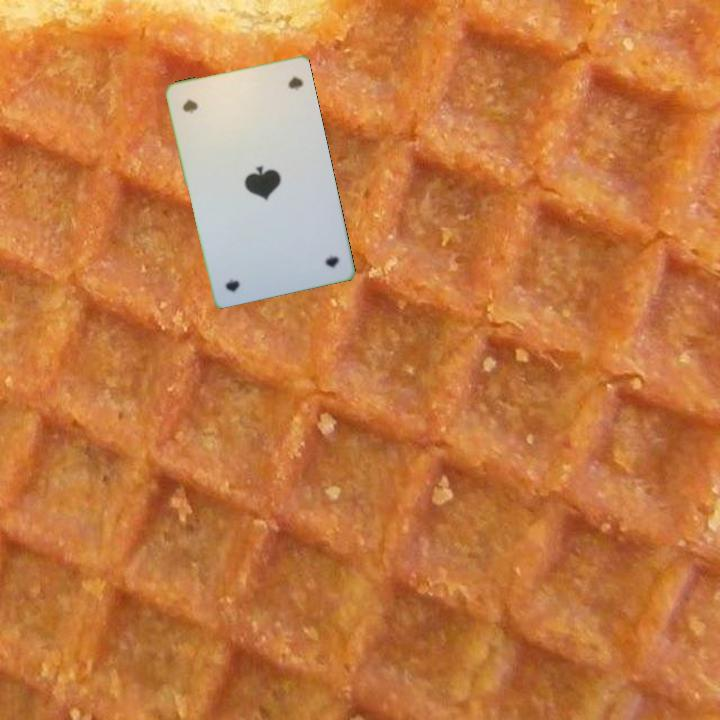s_a.png: (267, 215, 344, 285), (175, 78, 252, 148)
